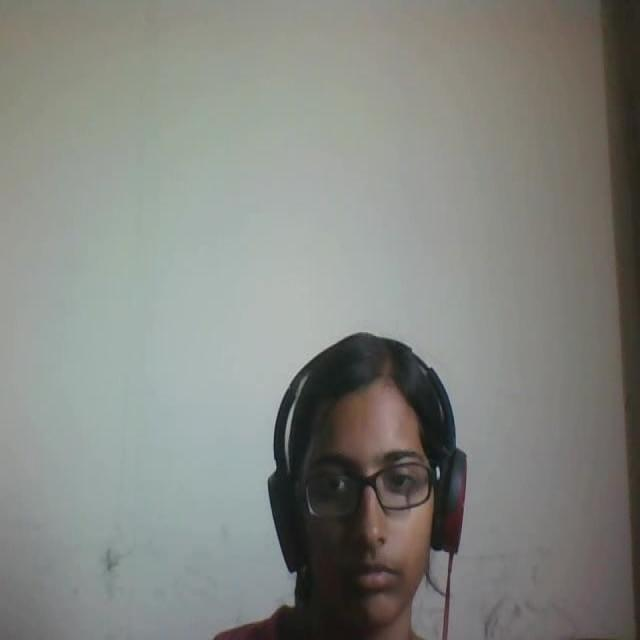Engaged: (232, 316, 512, 640)
